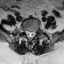CCS_normal: (29, 28, 31, 40)
LFS_normal: (34, 27, 37, 37)
LLS_normal: (31, 28, 34, 39)
RFS_normal: (23, 26, 26, 35)
RLS_normal: (26, 27, 29, 39)
